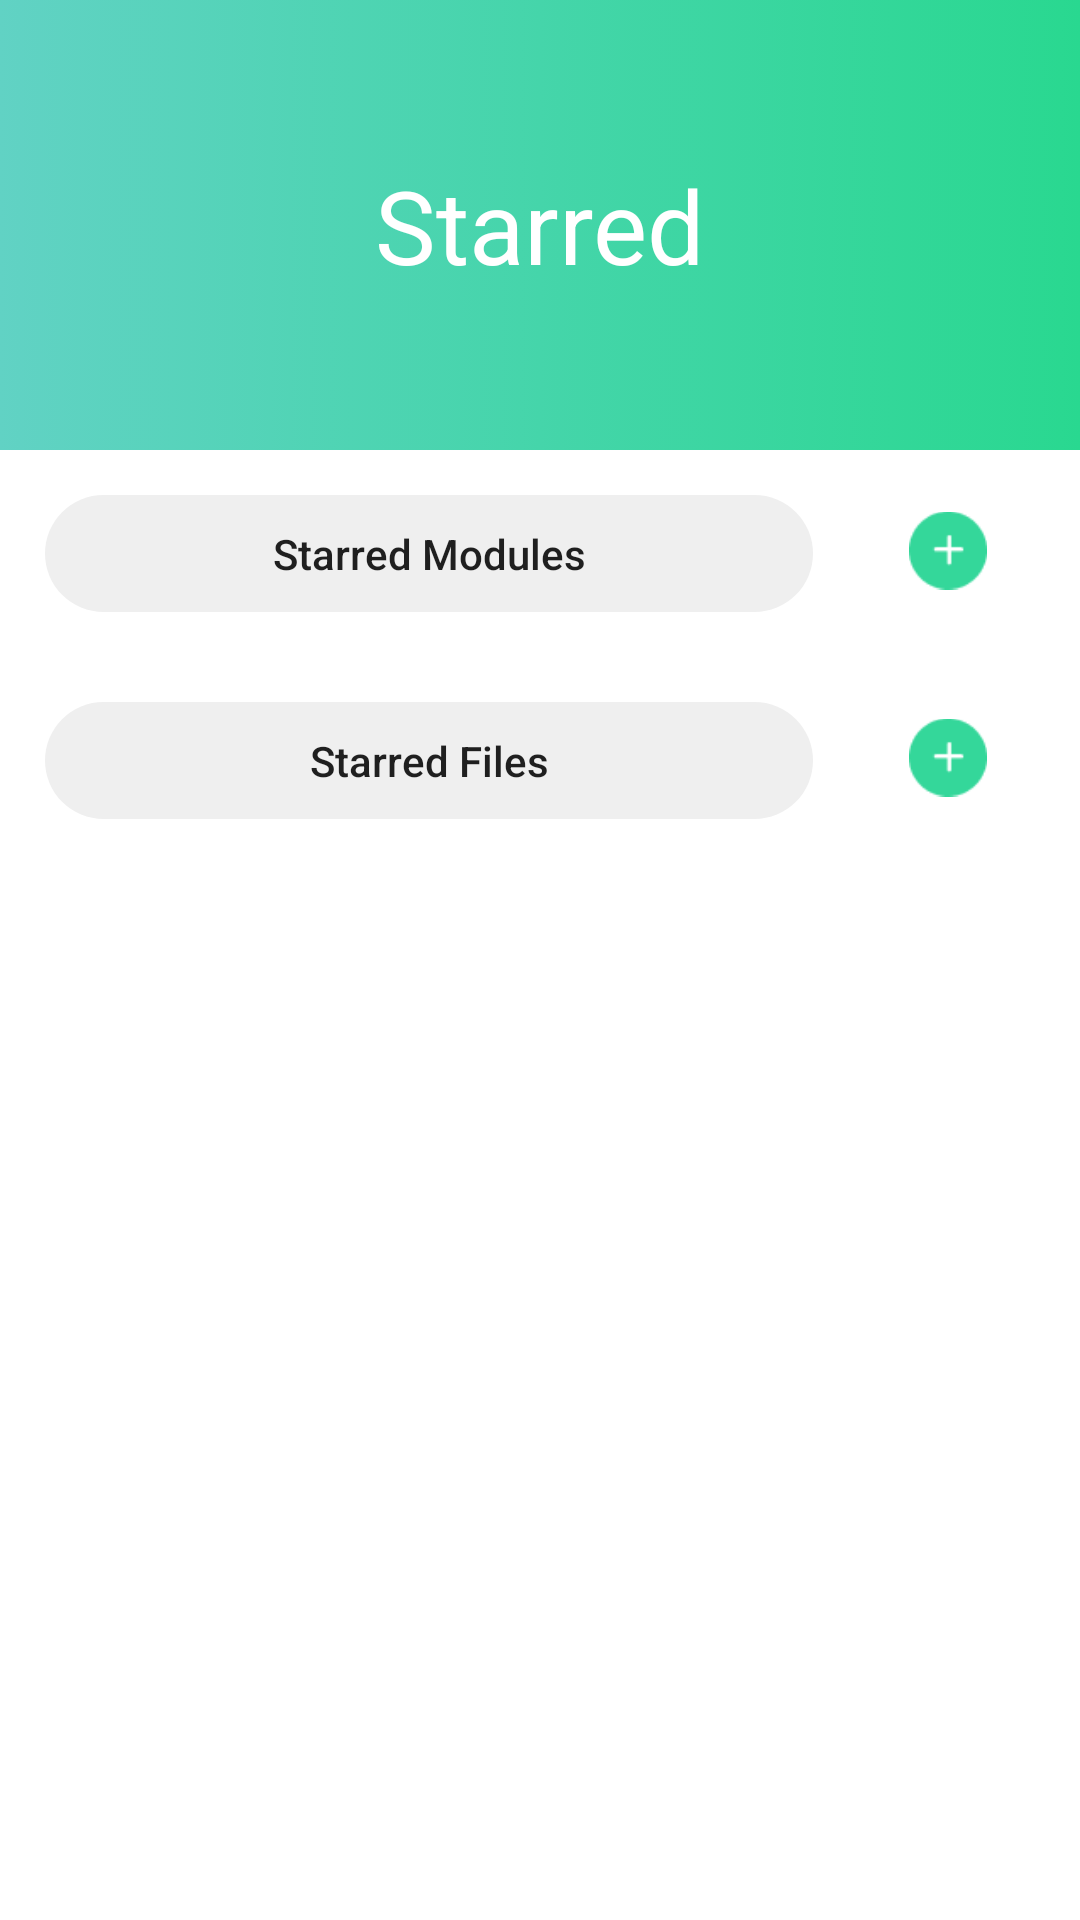

Named icons in this screenshot (1080w x 1920h) and their centers, (x,y):
add: (948,551), (948,758)
